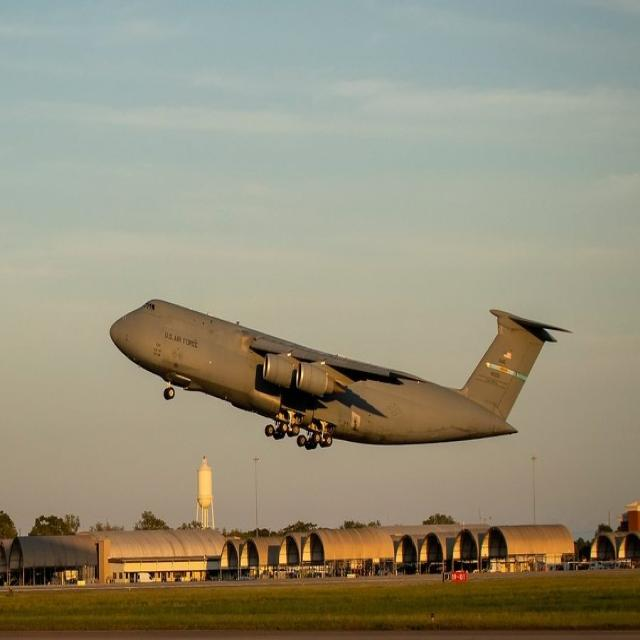C5: (100, 248, 596, 497)
